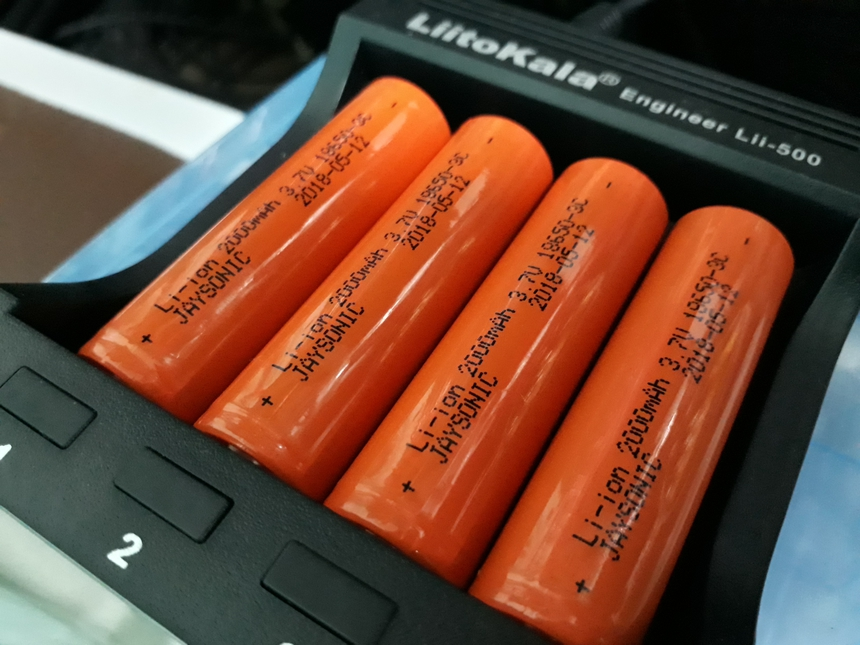Battery: (323, 152, 673, 594), (464, 200, 799, 645), (189, 108, 561, 500), (75, 71, 452, 426)
